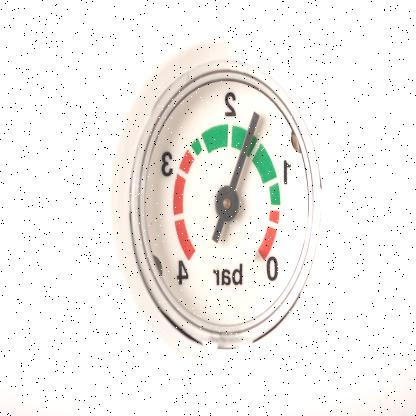needle: (228, 109, 261, 191)
